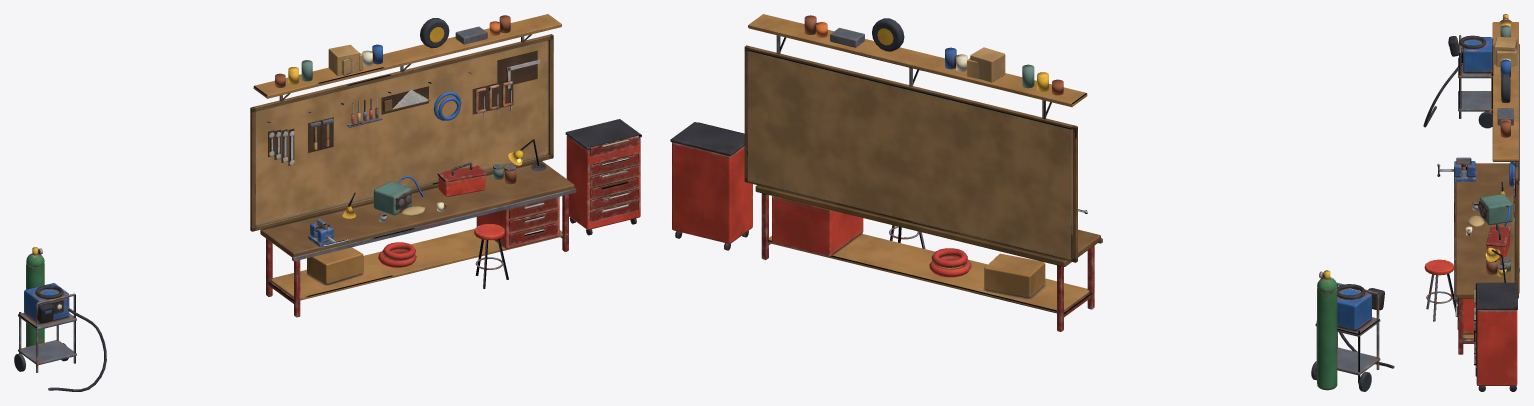
Rendered from ws_bench.glb.
3 views of the same model, side by side, from view 1: azimuth 30°, elevation 25°; view 2: azimuth 150°, elevation 25°; view 3: azimuth 270°, elevation 25° (orthographic). The views are drawn at different scales.
Parts seen in each view (by area): view 1: bench, bench_clutter, welder; view 2: bench, welder, bench_clutter; view 3: bench, bench_clutter, welder.
Part boxes in pixels (left/top/right/bottom): bench: left=250, top=14, right=641, bottom=317; bench_clutter: left=267, top=15, right=546, bottom=288; welder: left=14, top=247, right=106, bottom=391; bench: left=670, top=14, right=1102, bottom=331; welder: left=1311, top=270, right=1394, bottom=391; bench_clutter: left=804, top=15, right=1087, bottom=277; bench: left=1454, top=22, right=1519, bottom=391; bench_clutter: left=1424, top=19, right=1517, bottom=321; welder: left=1423, top=14, right=1511, bottom=128.
Bounding box in the file's own units: 9.21 × 3.5 × 1.3.
2 materials, 1 textured.
